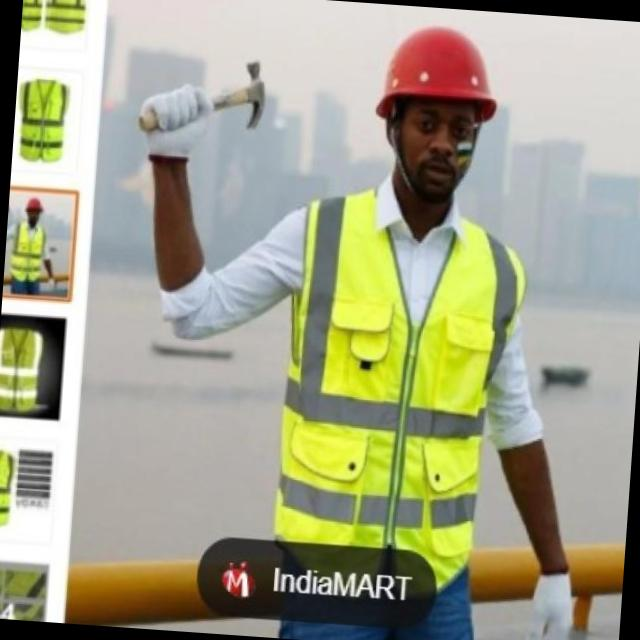gloved: (133, 77, 213, 160), (521, 567, 574, 640)
